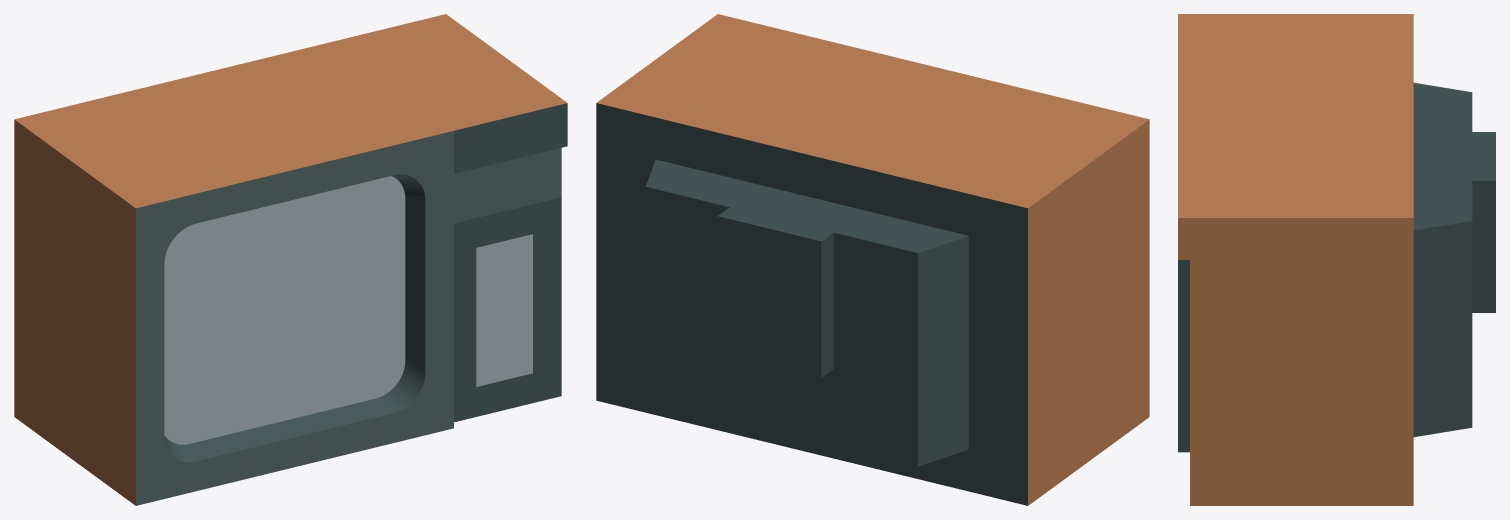
File: televisionvintage.glb
3 renders of one model, left to right at view 1: azimuth 30°, elevation 25°; view 2: azimuth 150°, elevation 25°; view 3: azimuth 270°, elevation 25°, orthographic. The views are drawn at different scales.
Visible parts, largest first — view 1: geometry_0; view 2: geometry_0; view 3: geometry_0.
Boxes of the visible parts, box(x1,y1,x2,y2) form: geometry_0: box(14, 14, 567, 505); geometry_0: box(596, 14, 1149, 505); geometry_0: box(1178, 14, 1495, 505).
Bounding box in the file's own units: 0.99 × 0.652 × 0.652.
